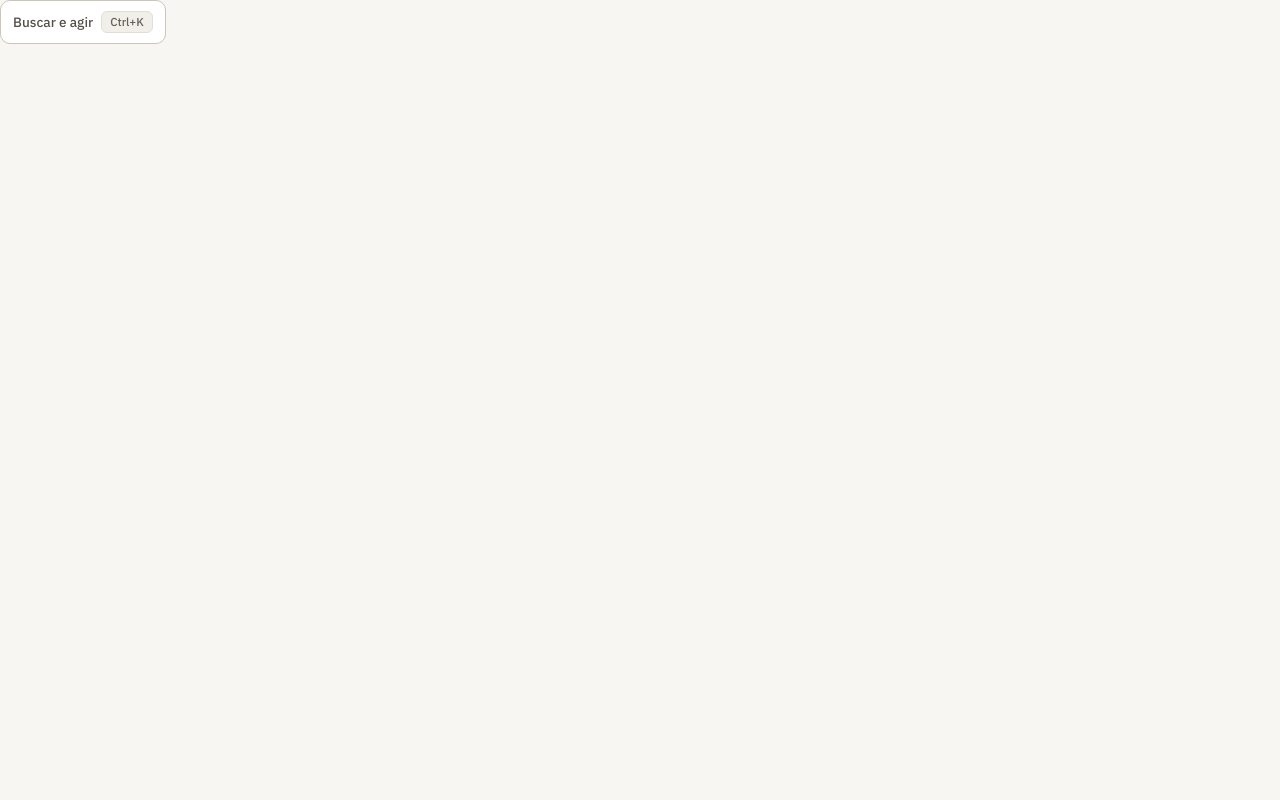
Test case: CommandPalette — opening, filtering and choosing › says so when nothing matches, and offers a way on
Press k
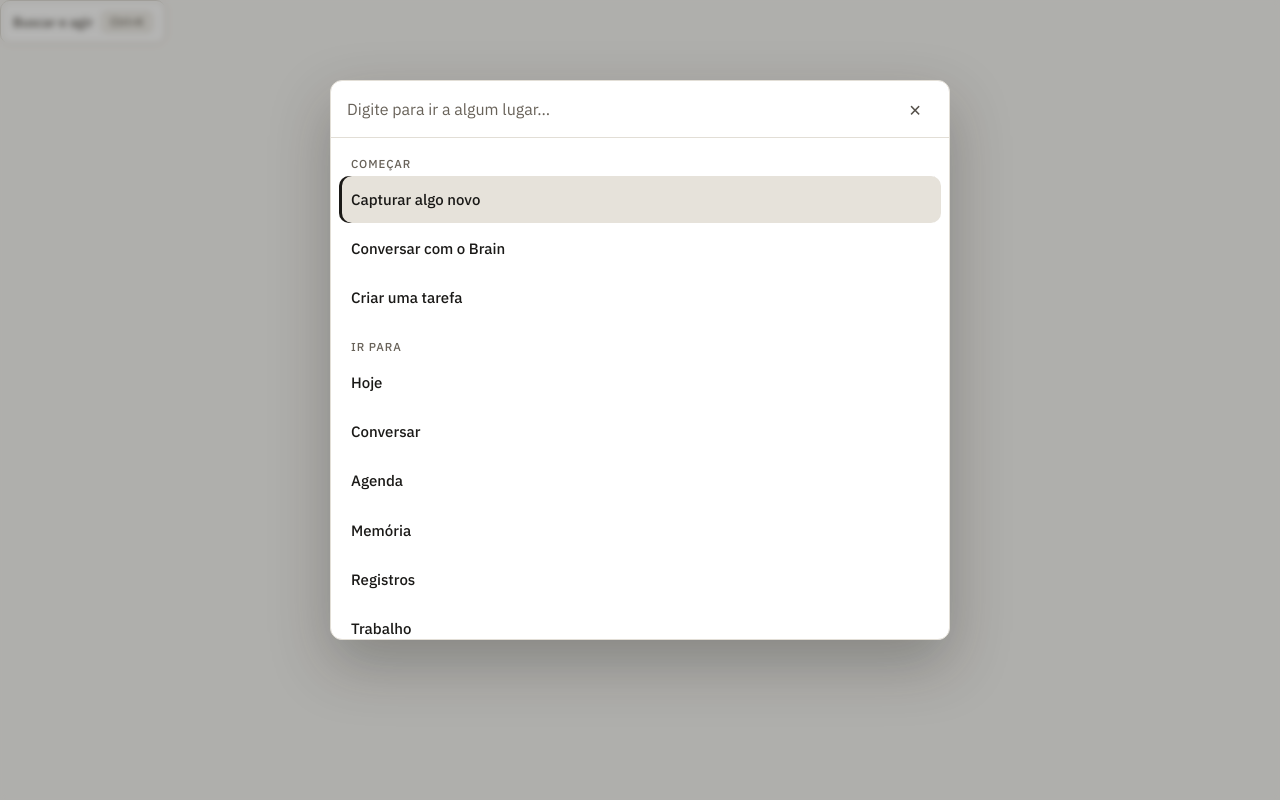
Type "zzzznothing" into the dropdown at (616, 109), box [347, 85, 885, 133]
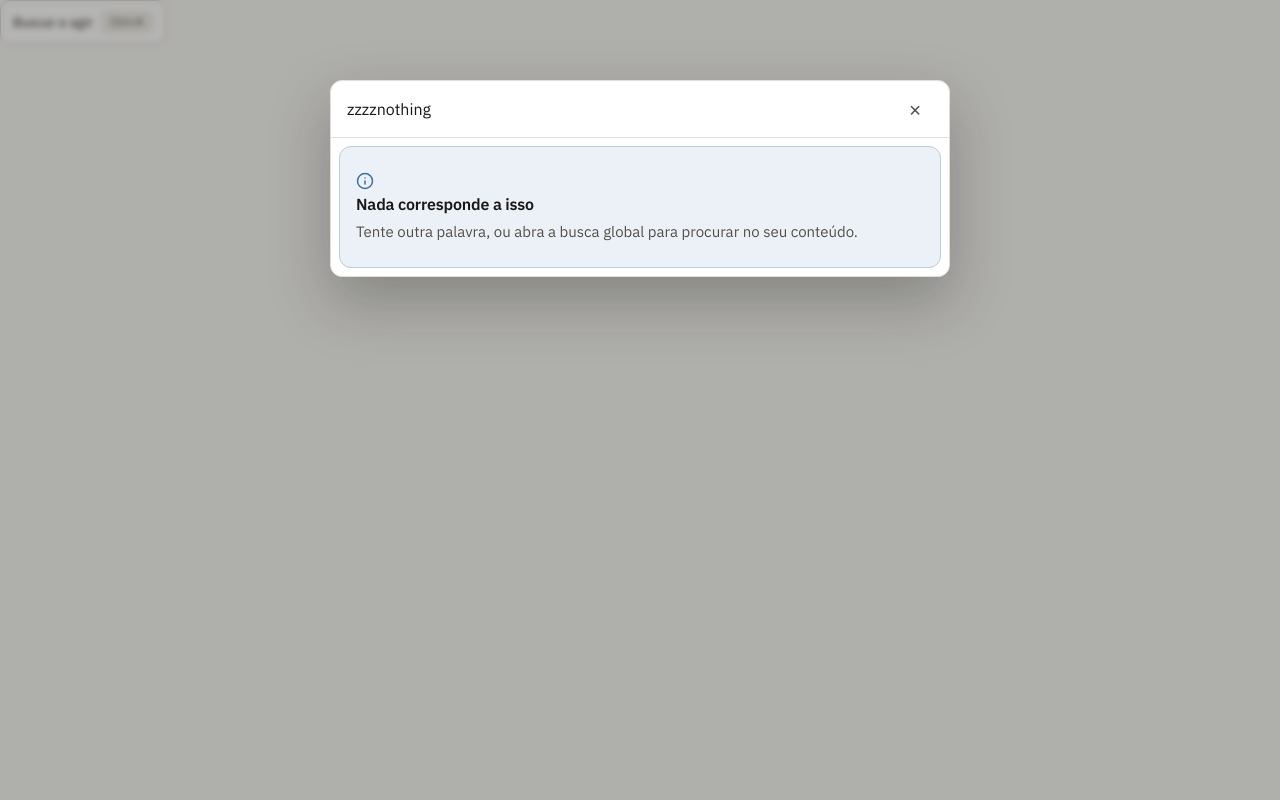
Now the text "Nada corresponde a isso" is shown, box [356, 194, 534, 214]
Now no options are shown
